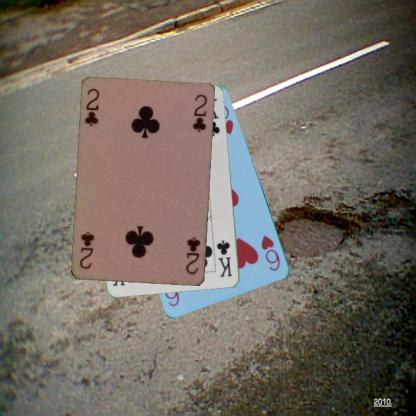2c: (82, 86, 101, 130), (184, 235, 202, 276)
6h: (258, 233, 282, 273)
Kc: (214, 238, 233, 278)
